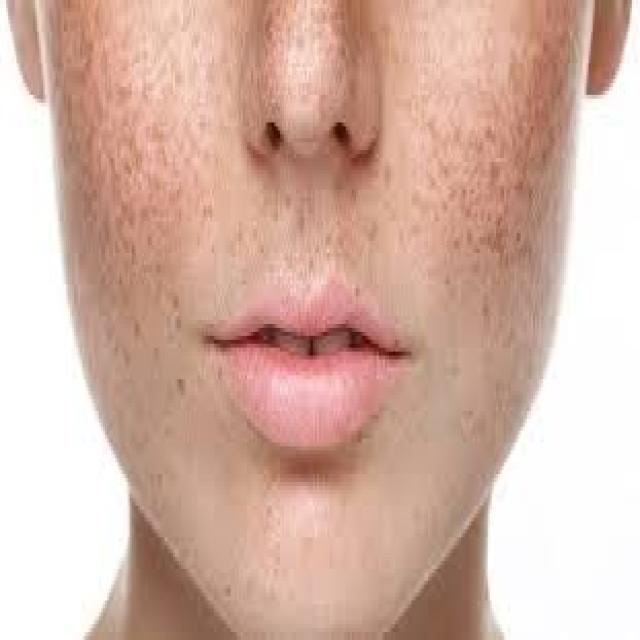pigmentation: (418, 3, 568, 284), (53, 24, 197, 303)
